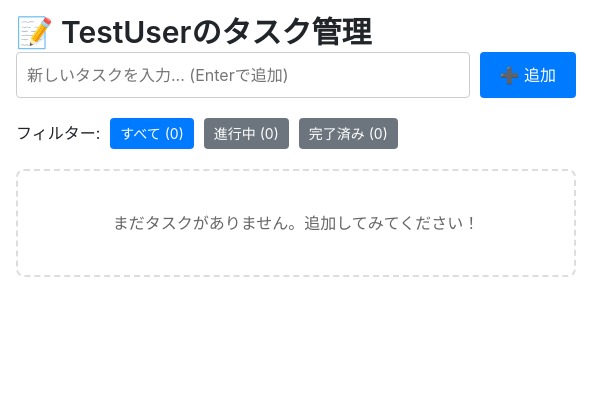
it: Task Operations Integration Tests (US1) › タスク追加の受入シナリオ › AS-001: 複数のタスクを連続して追加できる
Type "タスク1" into the field with placeholder "新しいタスクを入力... (Enterで追加)" at (243,74), box top-left (16, 52), bottom-right (470, 98)
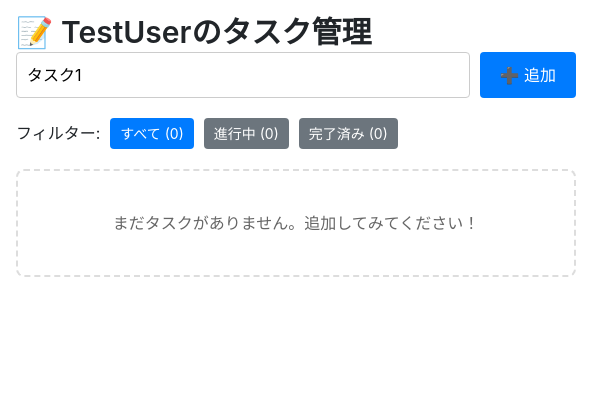
Click the button "➕ 追加" at (528,74), box top-left (480, 52), bottom-right (576, 98)
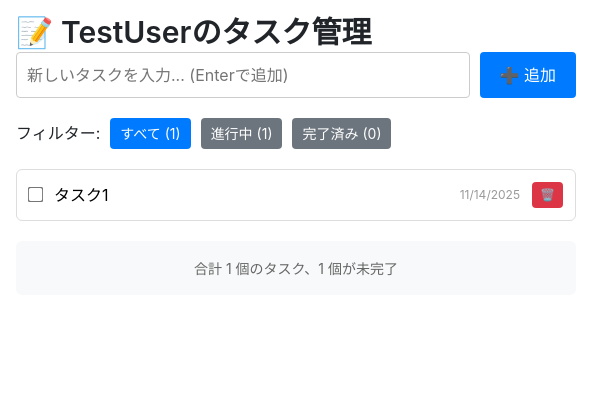
Type "タスク2" into the field with placeholder "新しいタスクを入力... (Enterで追加)" at (243,74), box top-left (16, 52), bottom-right (470, 98)
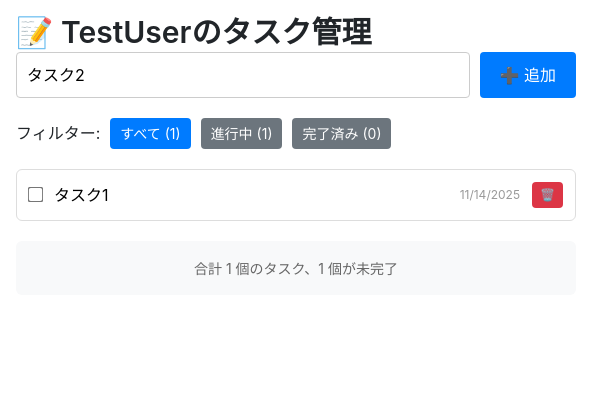
Click the button "➕ 追加" at (528,74), box top-left (480, 52), bottom-right (576, 98)
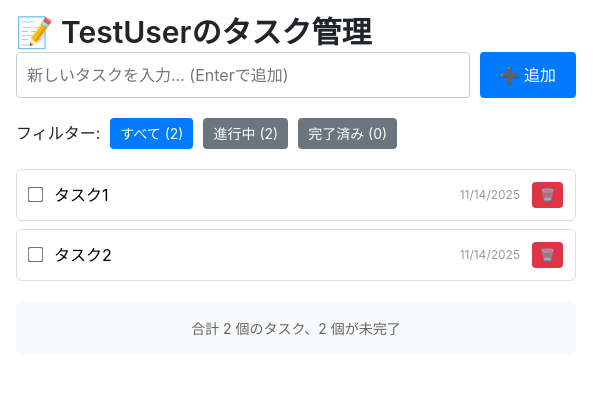
Type "タスク3" into the field with placeholder "新しいタスクを入力... (Enterで追加)" at (243,74), box top-left (16, 52), bottom-right (470, 98)
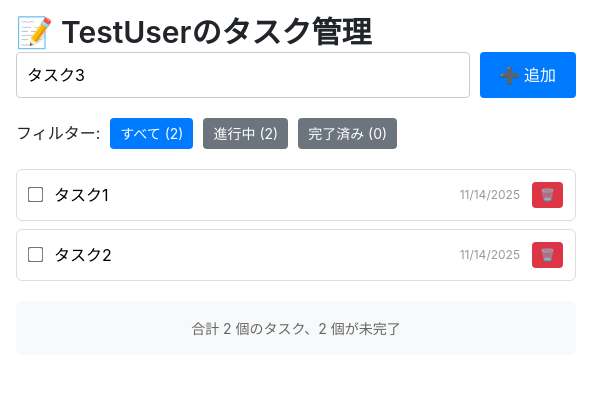
Click the button "➕ 追加" at (528,74), box top-left (480, 52), bottom-right (576, 98)
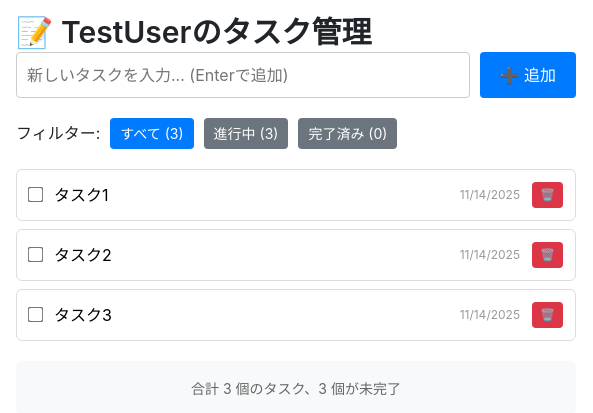
Now the text "タスク1" is shown, box top-left (54, 184), bottom-right (108, 204)
Now the text "タスク2" is shown, box top-left (54, 244), bottom-right (112, 264)
Now the text "タスク3" is shown, box top-left (54, 304), bottom-right (112, 324)
